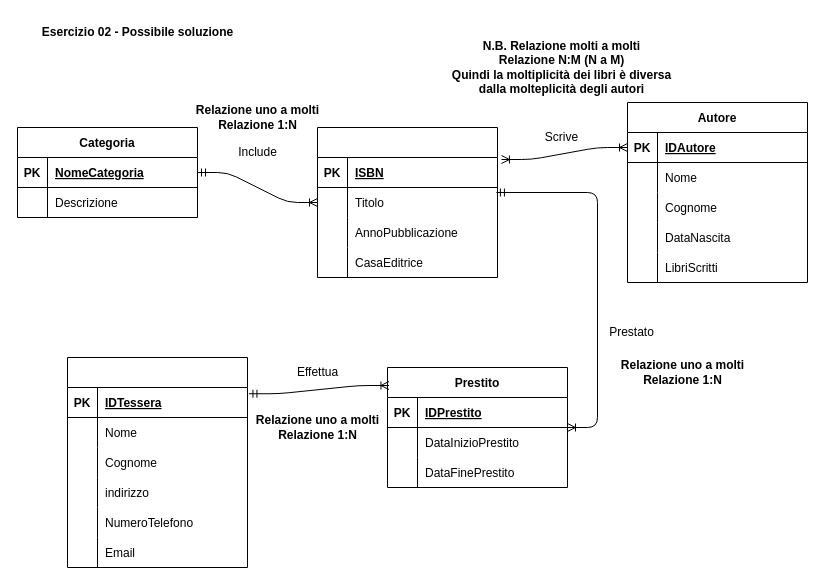
The diagram is 825 pixels wide and 585 high, and some of its shapes have lost their labels. Each missing label, with the box of its shape:
Libro: (316, 126, 498, 278)
UtenteBiblioteca/Membro: (66, 356, 248, 568)
